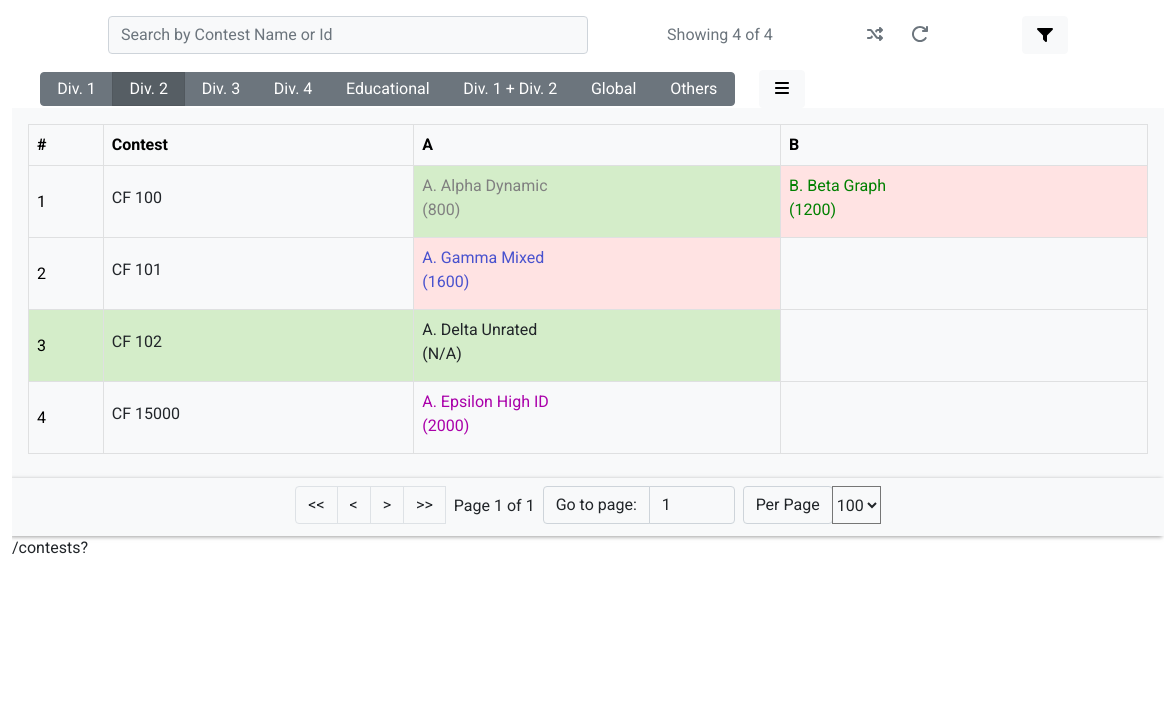
Test case: missing problem metadata renders empty cells without losing contest navigation
The image size is (1164, 720).
Click the button "Div. 1" at (77, 89), box [40,72,113,106]
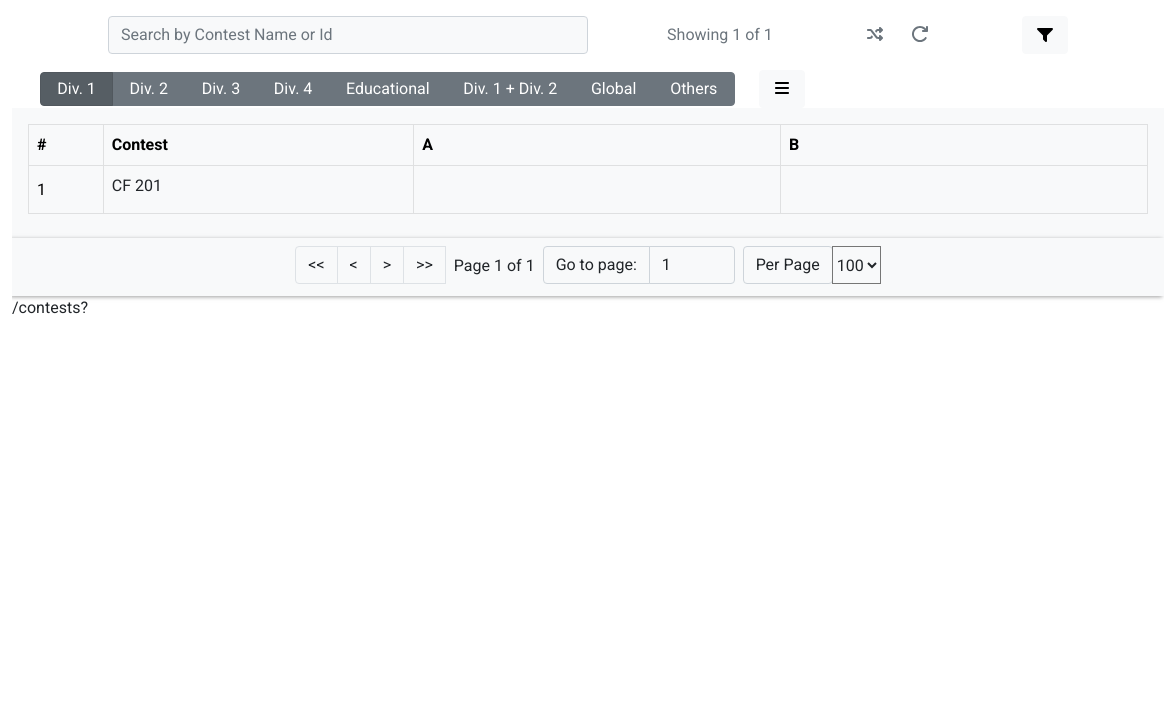
Expected: the number of cells is 4, [28,166,103,214]; [103,166,414,214]; [414,166,781,214]; [781,166,1148,214]
Expected: the number of links is 1, [112,176,162,195]
Expected: the number of cells with class "EMPTY" is 2, [414,166,781,214]; [781,166,1148,214]
